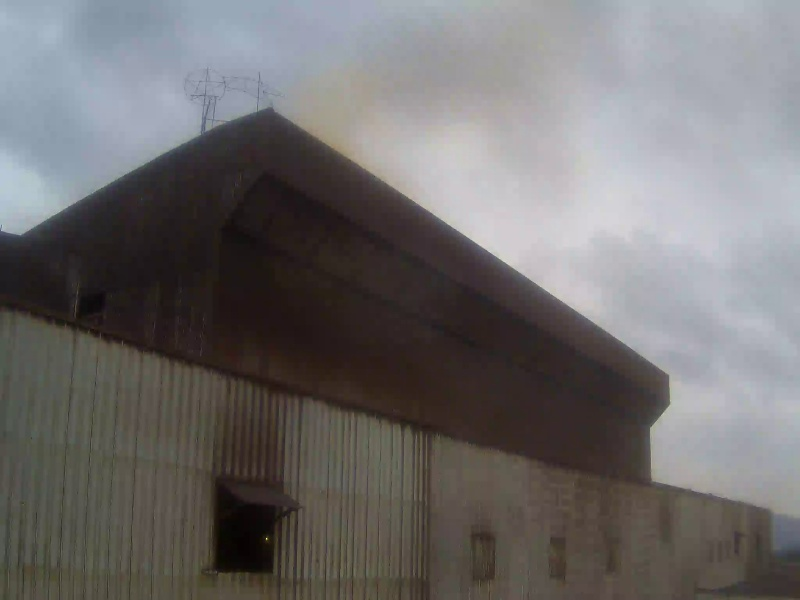bom: (655, 228, 794, 437), (6, 8, 179, 145)
ruim: (303, 81, 424, 177)
